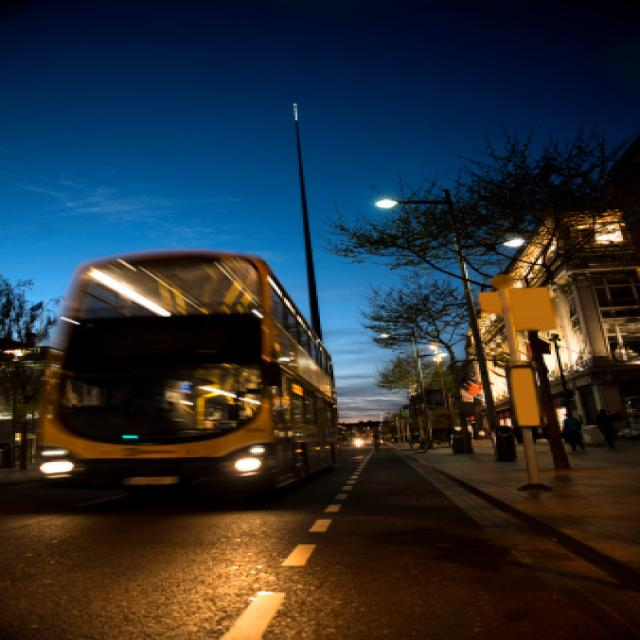Bus: (45, 247, 389, 523)
